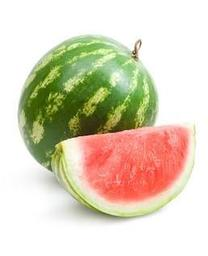watermelon: (15, 31, 158, 177), (51, 123, 197, 215)
